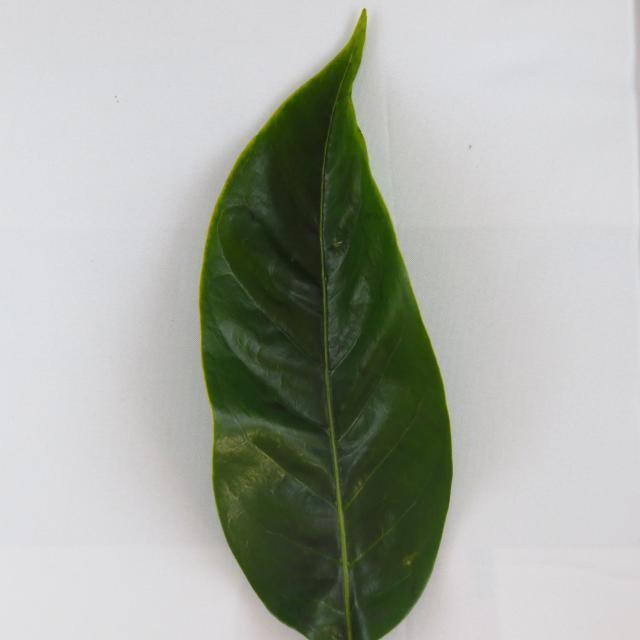DeficienciaNutricional-Calcio: (200, 12, 451, 638)
